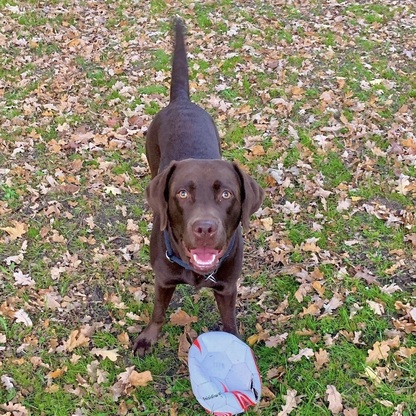labrado: (128, 19, 264, 362)
